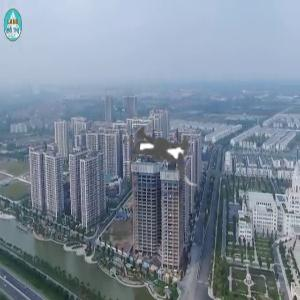drone: (86, 76, 232, 222)
